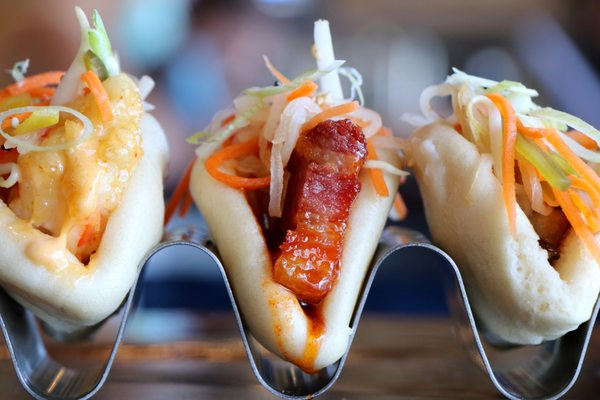burger: (182, 35, 405, 383), (396, 68, 600, 348), (0, 6, 170, 334)
